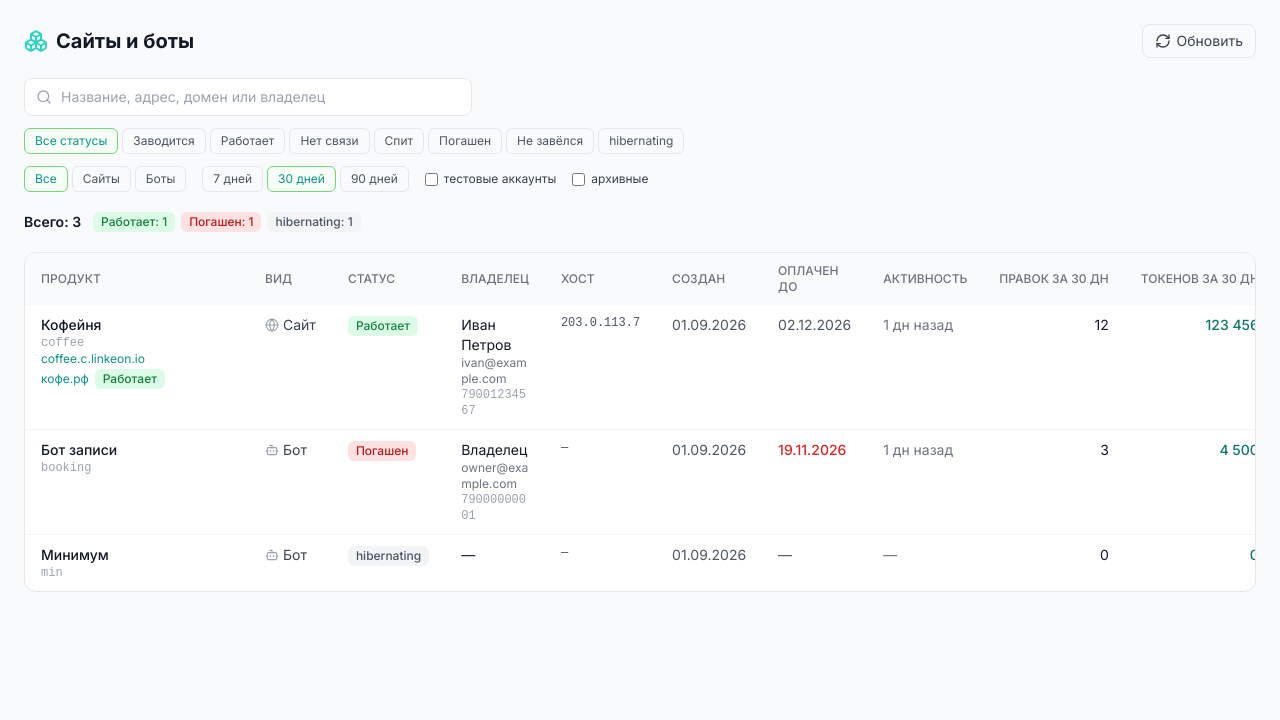
Test: карточка › клик по строке открывает карточку, её id ложится в адрес; закрытие убирает
The image size is (1280, 720).
Later steps or results of the test are not shown.
Step 1. Click the row that starts with "Кофейня" → [650, 367], box [25,305,1275,430]
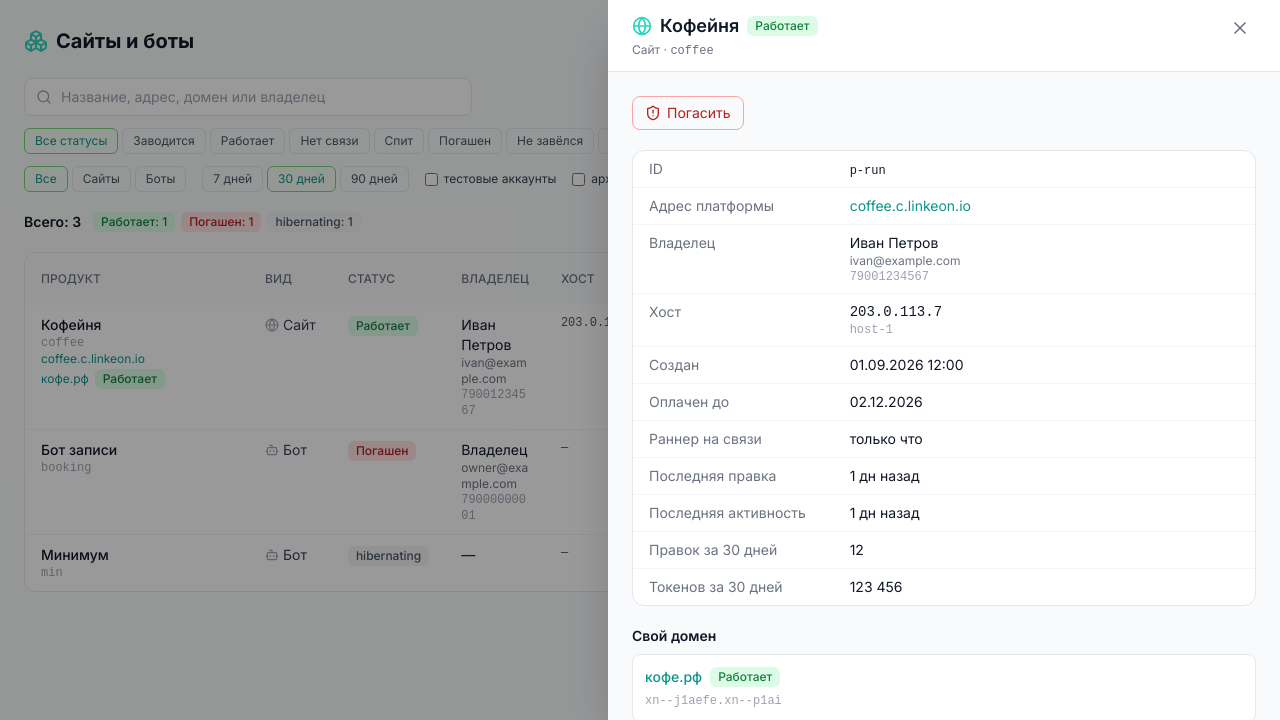
Expected: the text "p-run" is shown, [850,164,886,178]
